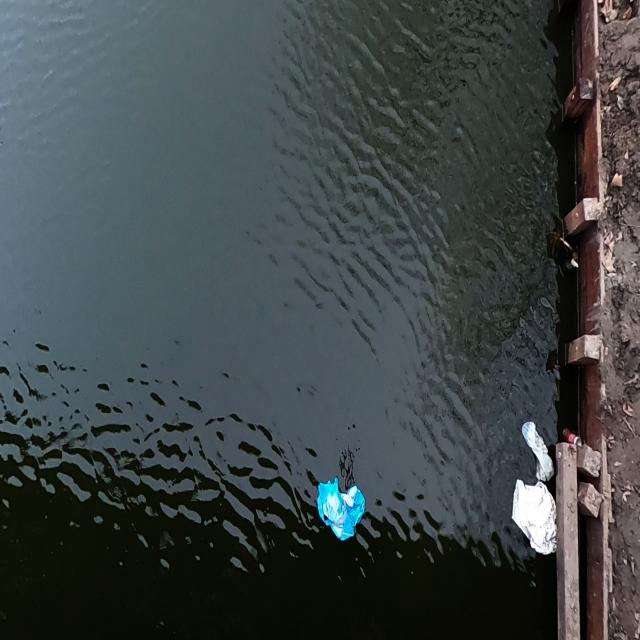Sac plastique: (314, 465, 369, 547), (510, 476, 559, 565), (518, 413, 558, 485)
